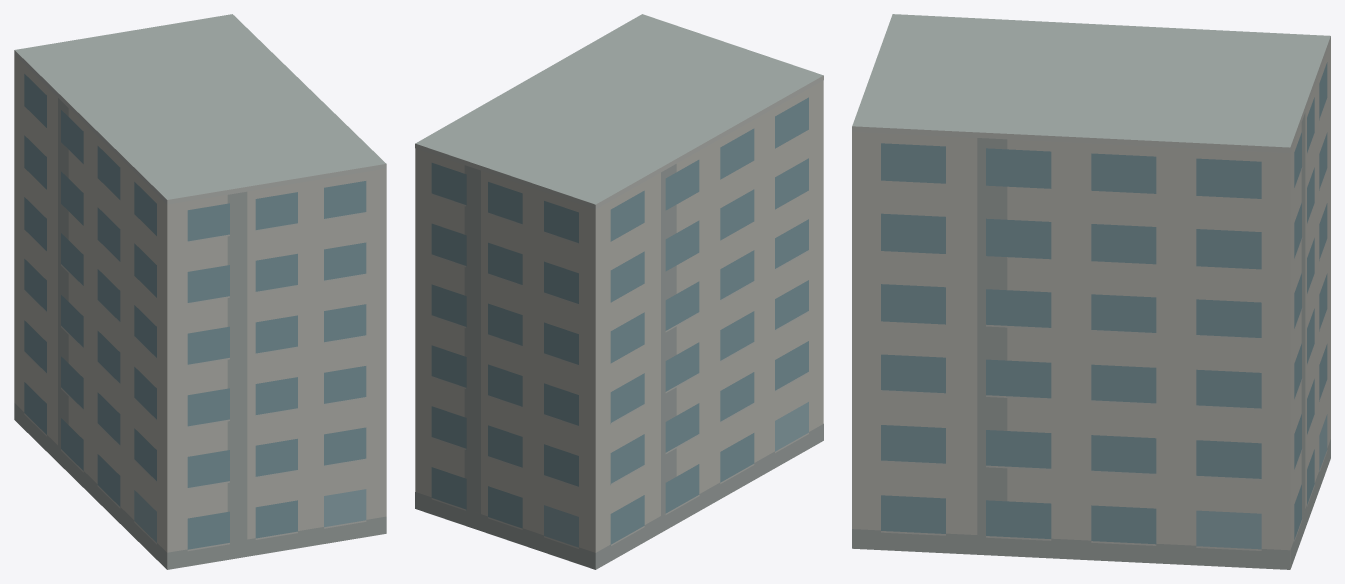
Rendered from survey-upis-32878961.glb.
The picture shows the model from 3 angles, left to right: view 1: azimuth 30°, elevation 25°; view 2: azimuth 150°, elevation 25°; view 3: azimuth 270°, elevation 25°; orthographic projection. The views are drawn at different scales.
Visible parts, largest first — view 1: survey-upis-32878961.tmp; view 2: survey-upis-32878961.tmp; view 3: survey-upis-32878961.tmp.
Part boxes in pixels (<box>): survey-upis-32878961.tmp: <box>14,14,386,569</box>; survey-upis-32878961.tmp: <box>415,14,823,569</box>; survey-upis-32878961.tmp: <box>852,14,1330,569</box>.
Size of the model in its own units: 12.55 by 18.5 by 19.01.
